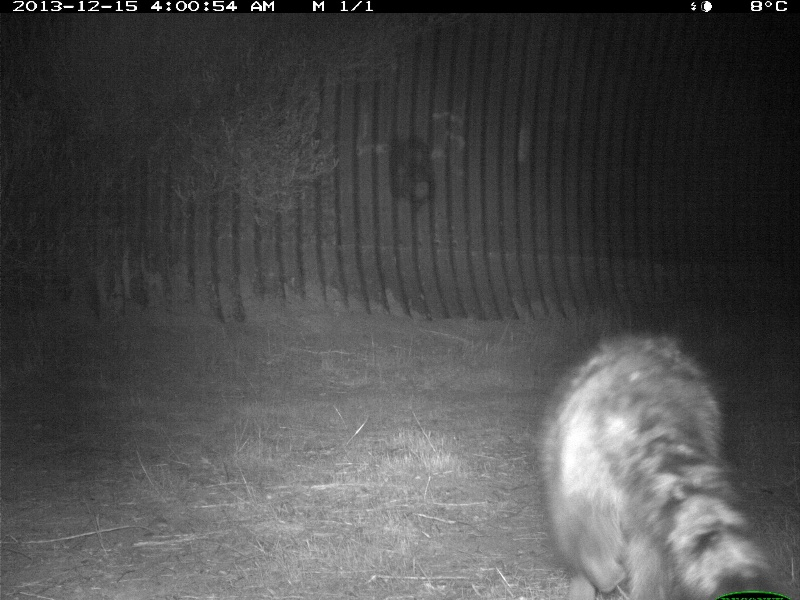raccoon: (533, 325, 778, 599)
